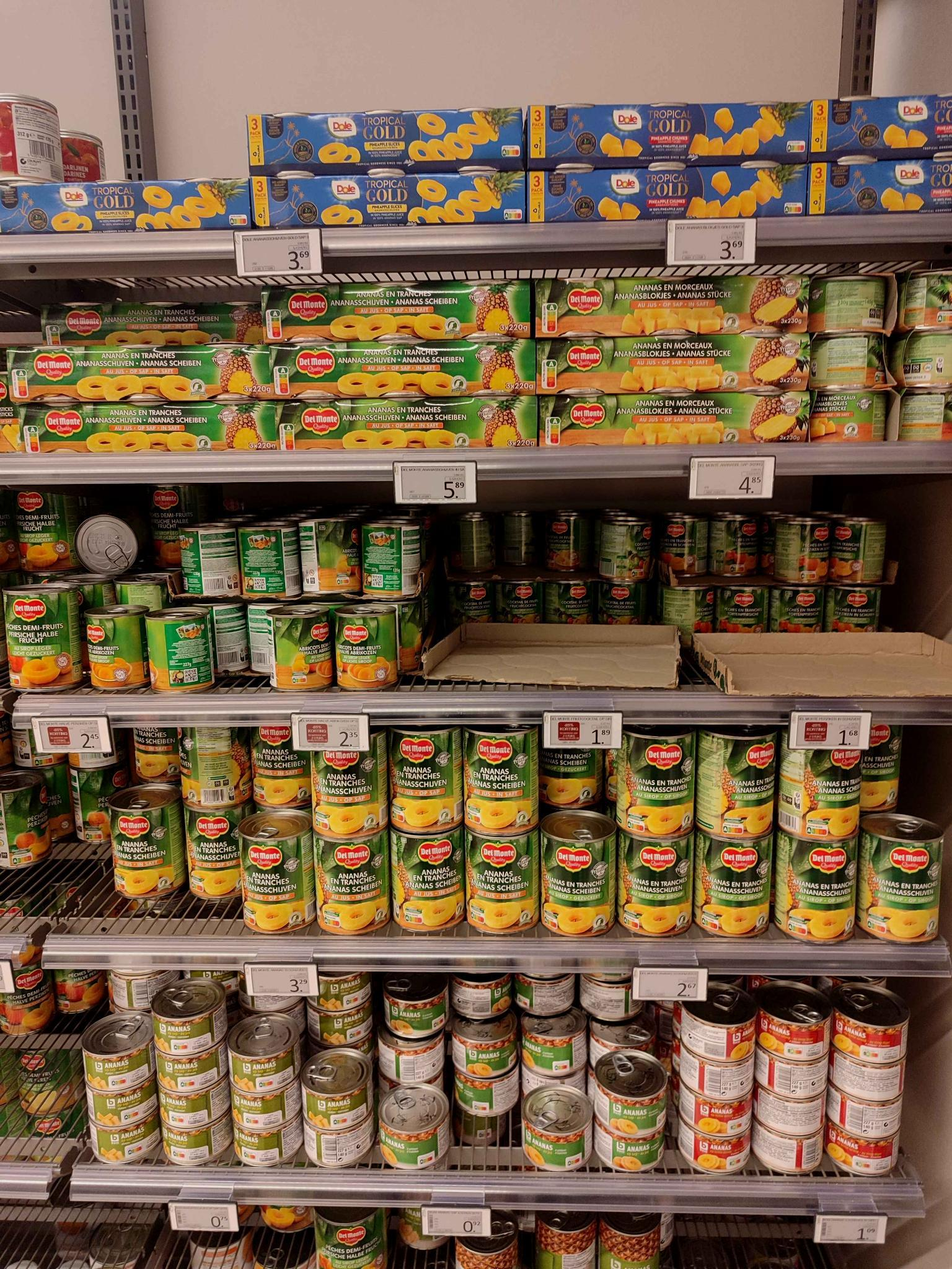nutri_A: (22, 425, 42, 453), (864, 916, 893, 935), (275, 362, 290, 398), (279, 426, 300, 450), (545, 417, 563, 445), (15, 367, 33, 395), (719, 821, 750, 837), (267, 309, 284, 336), (787, 920, 812, 938), (544, 303, 558, 334), (107, 1074, 134, 1090), (544, 357, 556, 389), (46, 325, 62, 348), (499, 144, 523, 157), (502, 207, 523, 221), (783, 202, 806, 214), (807, 823, 827, 836), (289, 673, 309, 685), (552, 1061, 570, 1074), (787, 141, 808, 152), (563, 1156, 584, 1167), (417, 1154, 436, 1166), (226, 217, 250, 226), (126, 1147, 144, 1159), (334, 577, 354, 587), (121, 1111, 142, 1120)
shelf_bottom: (2, 965, 952, 1269)
shelf_middle: (2, 272, 952, 949)
shelf_top: (2, 3, 952, 257)
